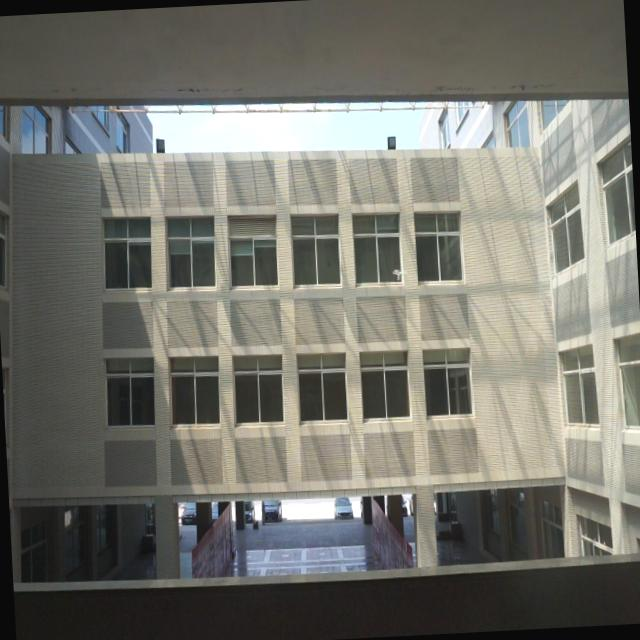drone: (389, 267, 406, 281)
